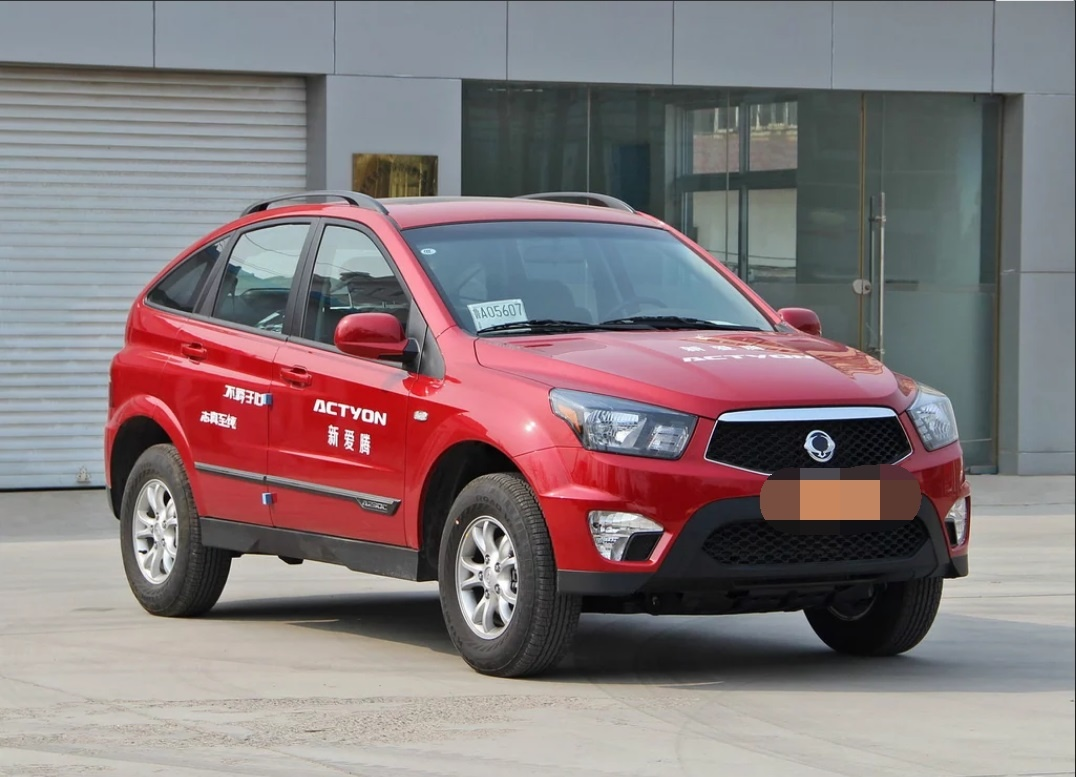SUV: (103, 166, 978, 696)
